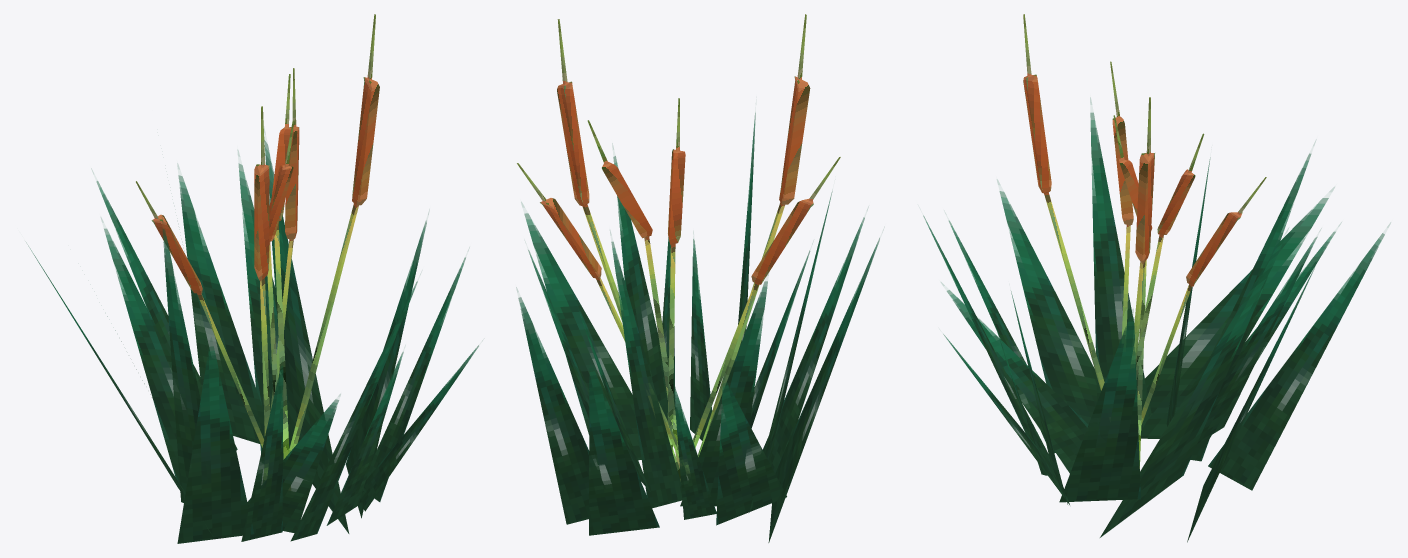
Rendered from river.glb.
3 views of the same model, side by side, from view 1: azimuth 30°, elevation 25°; view 2: azimuth 150°, elevation 25°; view 3: azimuth 270°, elevation 25° (orthographic). The views are drawn at different scales.
Visible parts, largest first — view 1: Plane.007; view 2: Plane.007; view 3: Plane.007.
Part boxes in pixels (x1=…): Plane.007: x1=26, y1=14, x2=478, y2=543; Plane.007: x1=516, y1=14, x2=879, y2=542; Plane.007: x1=923, y1=14, x2=1390, y2=542.
Size of the model in its own units: 4.45 by 6.71 by 6.26.
Materials: 2 (2 with a texture image).
